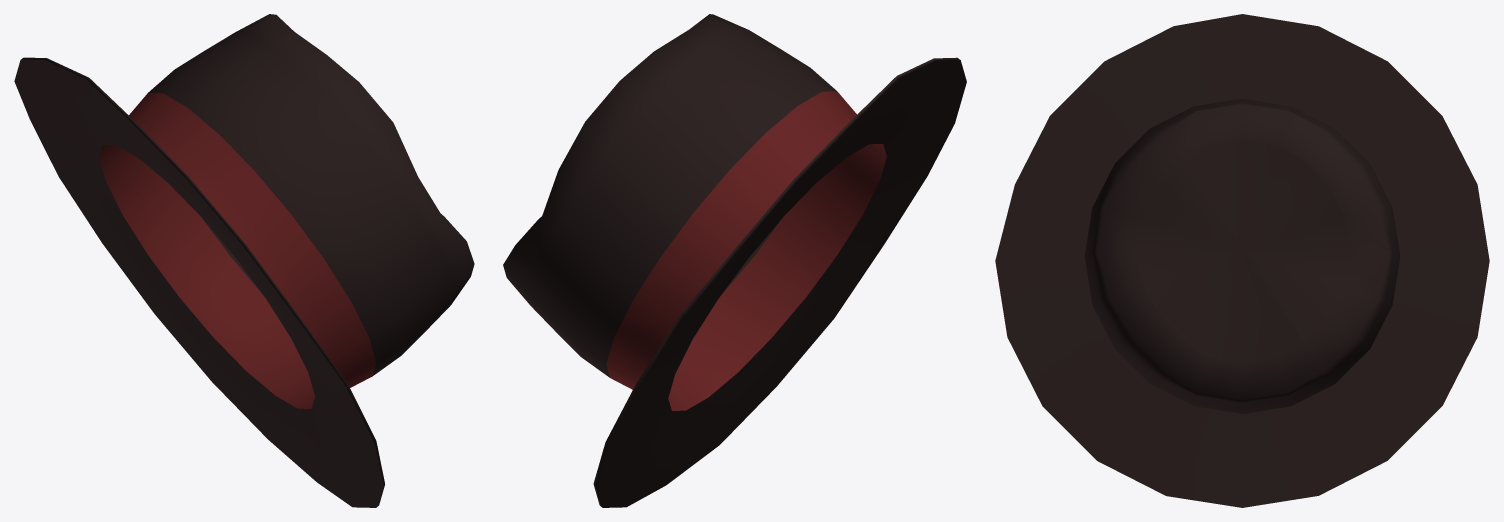
File: hat.fbx
The picture shows the model from 3 angles, left to right: view 1: azimuth 30°, elevation 25°; view 2: azimuth 150°, elevation 25°; view 3: azimuth 270°, elevation 25°; orthographic projection. The views are drawn at different scales.
Parts seen in each view (by area): view 1: pCylinder1_lambert4_0, pCylinder1_lambert5_0; view 2: pCylinder1_lambert4_0, pCylinder1_lambert5_0; view 3: pCylinder1_lambert4_0.
Boxes of the visible parts, <box> form: pCylinder1_lambert4_0: <box>14,14,474,507</box>; pCylinder1_lambert5_0: <box>99,92,376,408</box>; pCylinder1_lambert4_0: <box>503,14,966,507</box>; pCylinder1_lambert5_0: <box>606,91,886,410</box>; pCylinder1_lambert4_0: <box>995,14,1489,507</box>.
Bounding box in the file's own units: 494 × 624 × 703.
